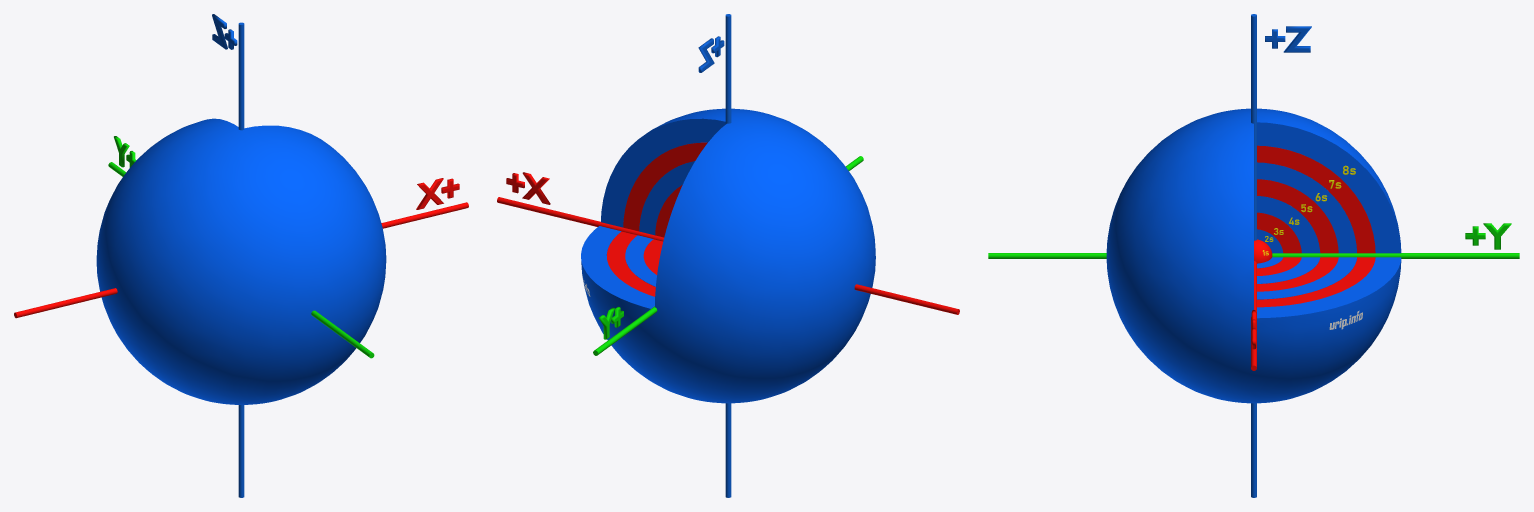
File: orbital8ss.glb
3 renders of one model, left to right at view 1: azimuth 30°, elevation 25°; view 2: azimuth 150°, elevation 25°; view 3: azimuth 270°, elevation 25°, orthographic.
Parts seen in each view (by area): view 1: 8s, sumbu xyz, X, Z; view 2: 8s, sumbu xyz, X; view 3: 8s, sumbu xyz, Z.
Part boxes in pixels (x1,y1,x2,y2): 8s: (96,118,386,404); sumbu xyz: (14,22,468,497); X: (416,178,459,209); Z: (212,14,237,49); 8s: (581,108,875,403); sumbu xyz: (497,14,959,497); X: (506,172,550,204); 8s: (1106,108,1401,403); sumbu xyz: (988,14,1519,497); Z: (1265,26,1311,52).
Size of the model in its own units: 3.6 by 3.6 by 3.6.
